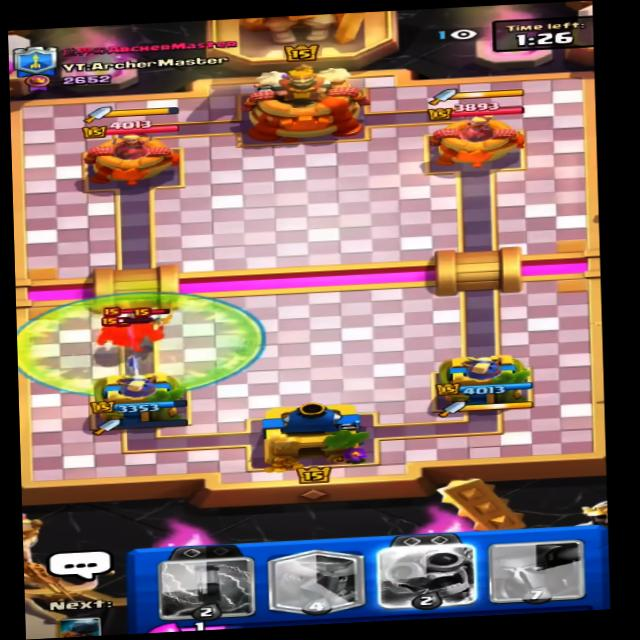knight: (93, 310, 165, 350)
skeleton: (137, 308, 166, 330)
